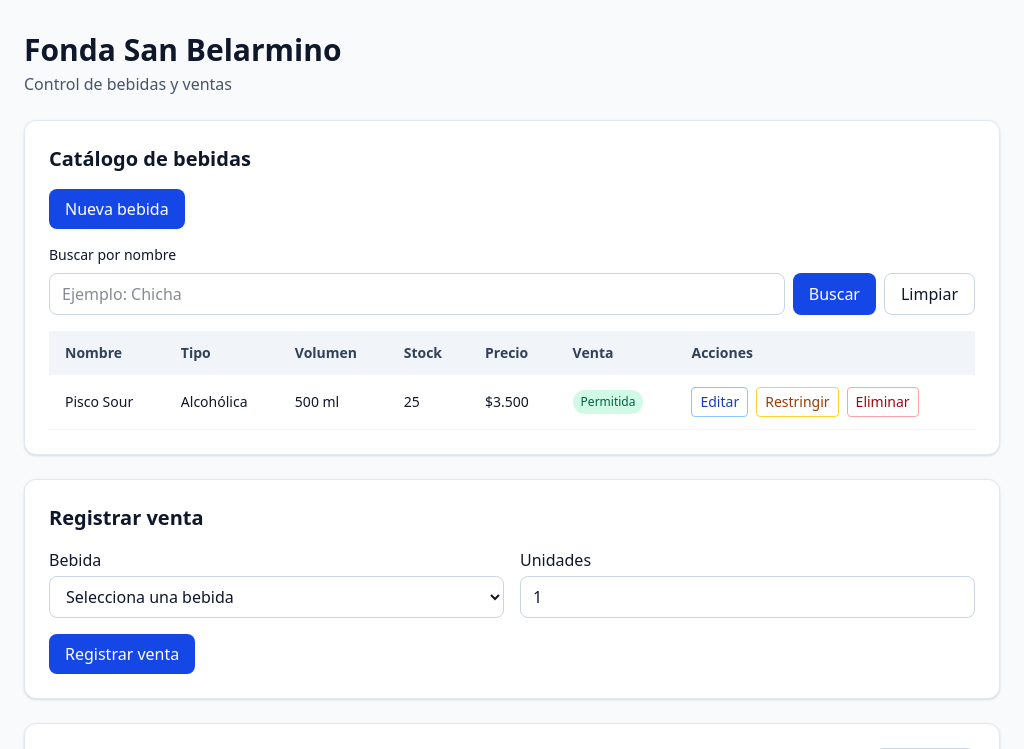
Sincronización de ventas › refresca catálogo e historial después de una venta, rechazada=false
Select "Pisco Sour · Alcohólica · 500 ml · Stock: 25" in the dropdown labelled "Bebida". click: (276, 597)
box: [49,576,504,618]
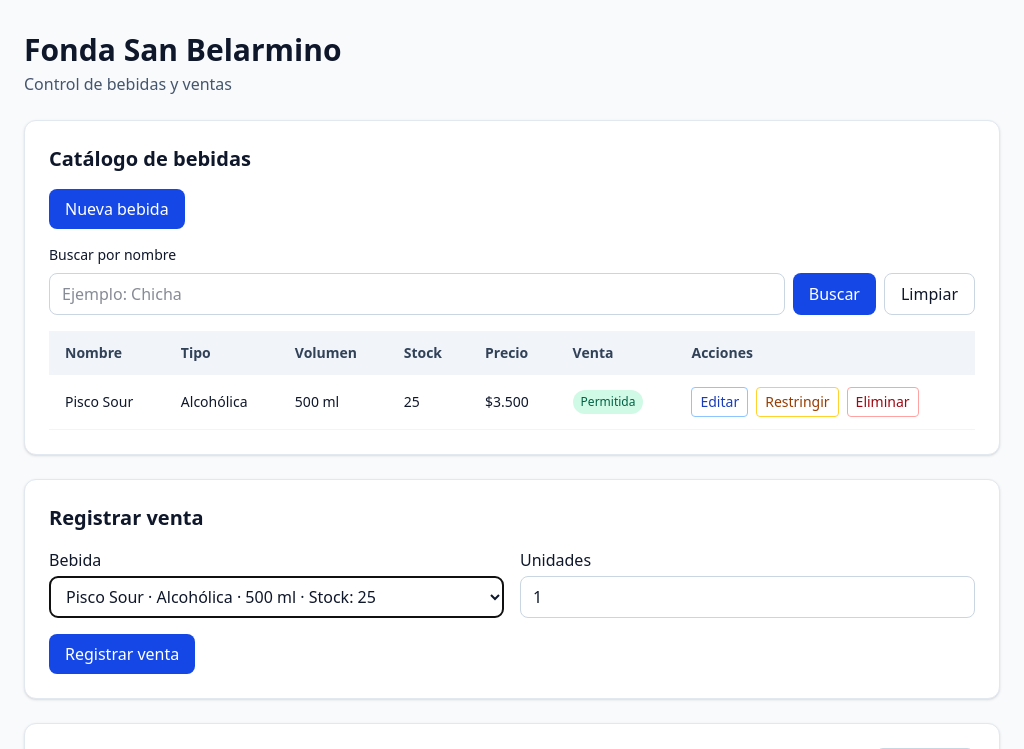
Replace the text in the number field labelled "Unidades" with "2". click: (748, 597)
box: [520,576,975,618]
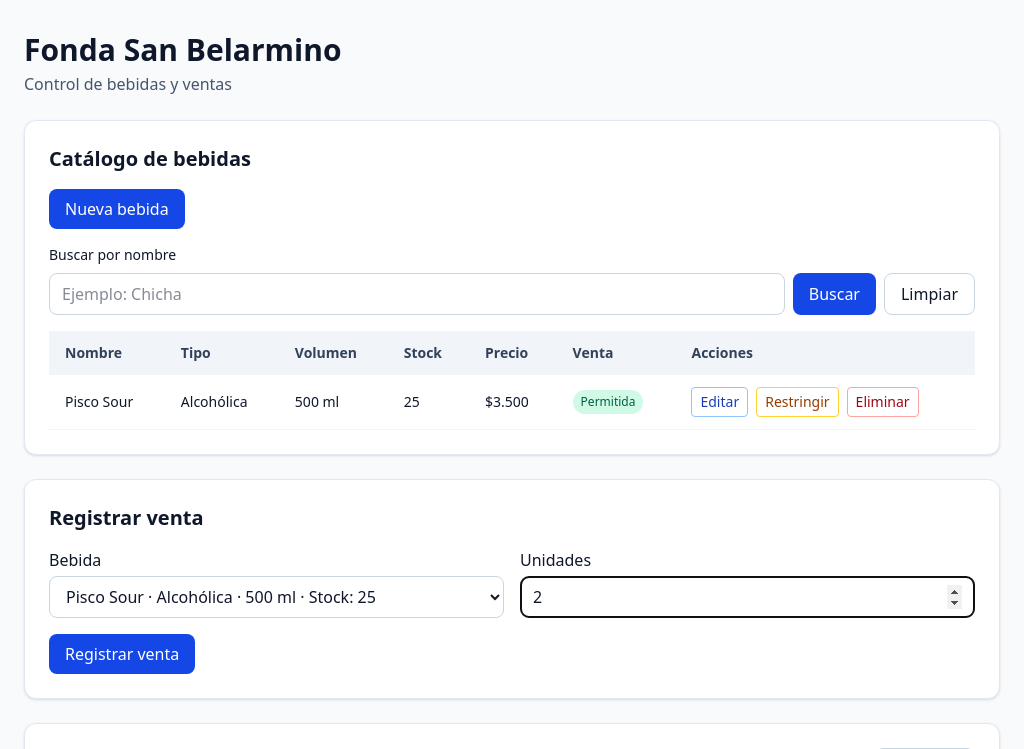
Click the button "Registrar venta". click: click(122, 654)
box: [49,634,195,674]
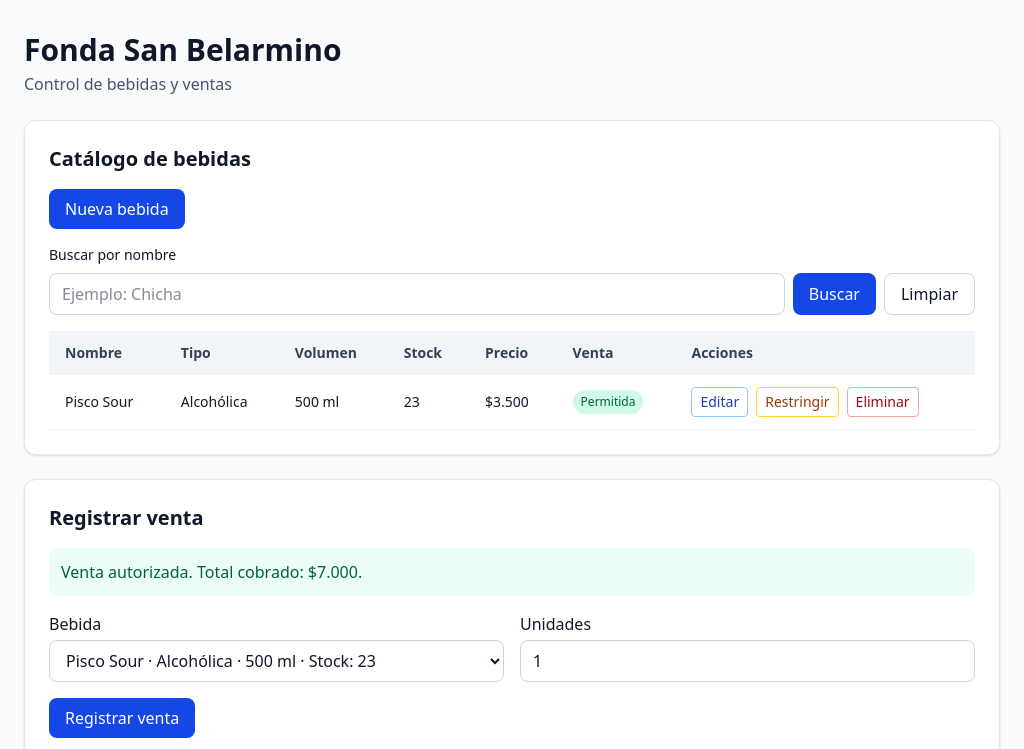
Expected: the text "Venta autorizada. Total cobrado: $7.000." is shown, [49,548,975,596]
